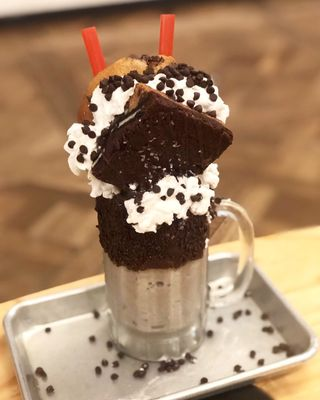sushi: (62, 57, 236, 362), (63, 53, 235, 276)
